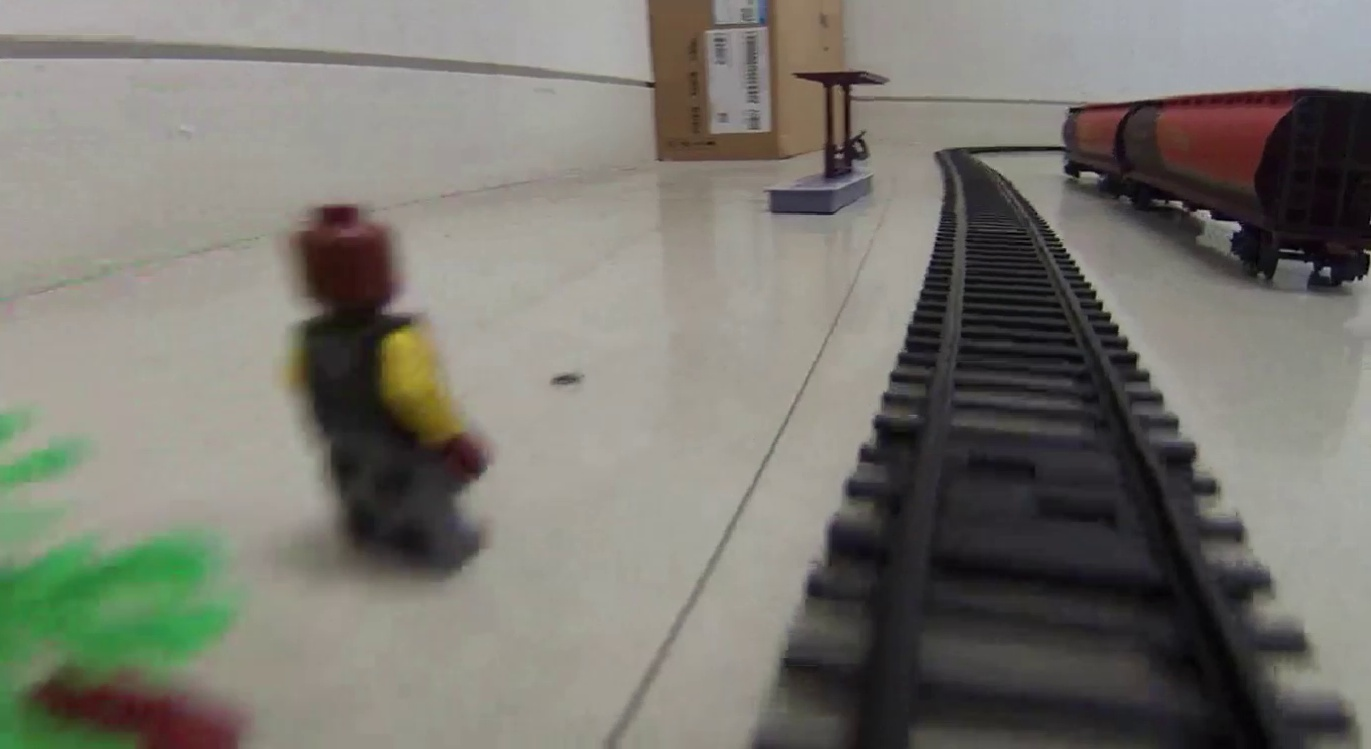people: (282, 203, 493, 575)
